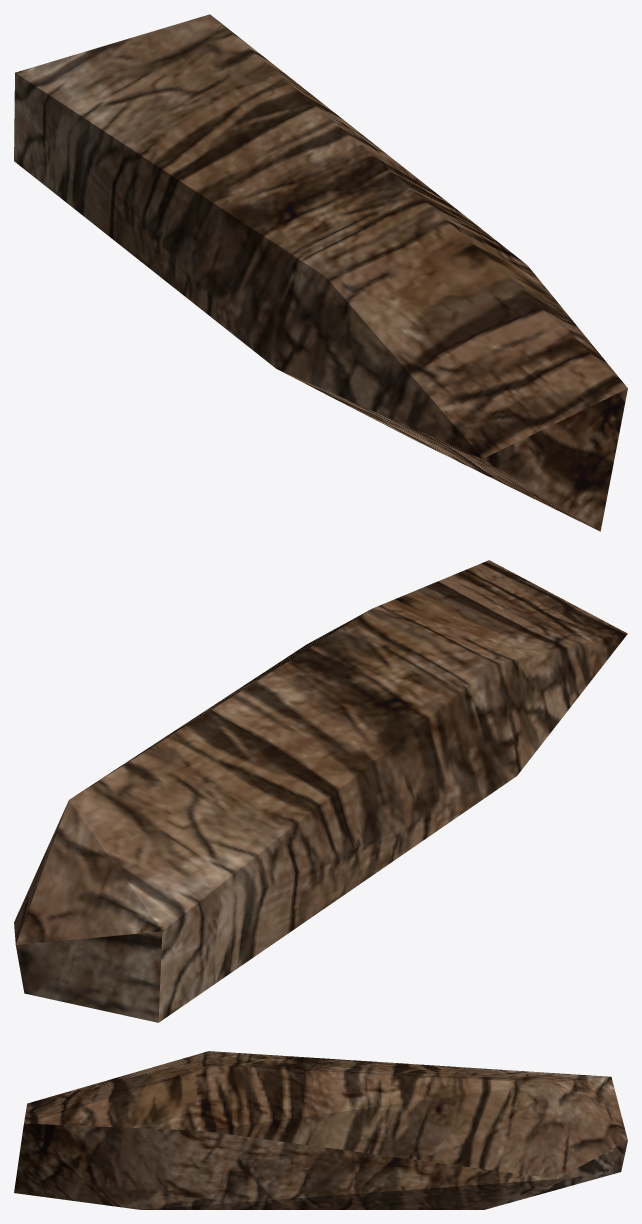
File: MEP_DesertCliff_22.fbx
3 renders of one model, top to bottom at view 1: azimuth 30°, elevation 25°; view 2: azimuth 150°, elevation 25°; view 3: azimuth 270°, elevation 25°, orthographic. The views are drawn at different scales.
Visible parts, largest first — view 1: MEP_Desert_Cliff_22; view 2: MEP_Desert_Cliff_22; view 3: MEP_Desert_Cliff_22.
Boxes of the visible parts, x1=… form: MEP_Desert_Cliff_22: x1=14, y1=14, x2=627, y2=531; MEP_Desert_Cliff_22: x1=14, y1=560, x2=627, y2=1022; MEP_Desert_Cliff_22: x1=14, y1=1051, x2=627, y2=1209.
Bounding box in the file's own units: 1.5 × 1.29 × 5.29.
